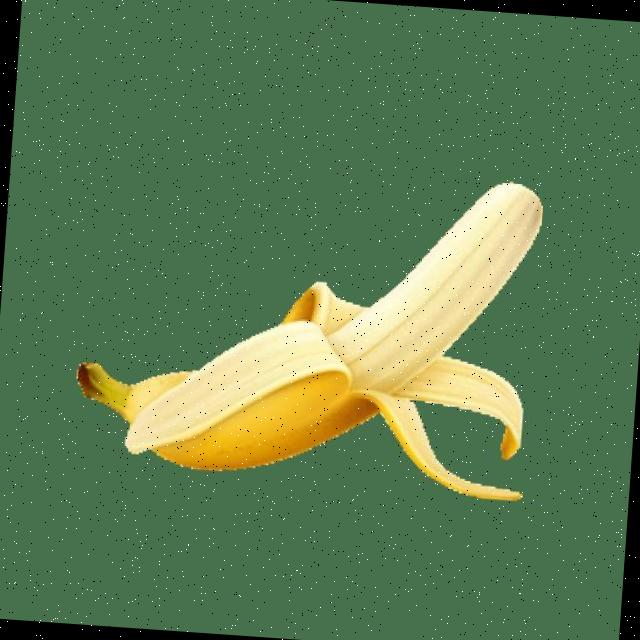banana-peel: (69, 150, 547, 502)
